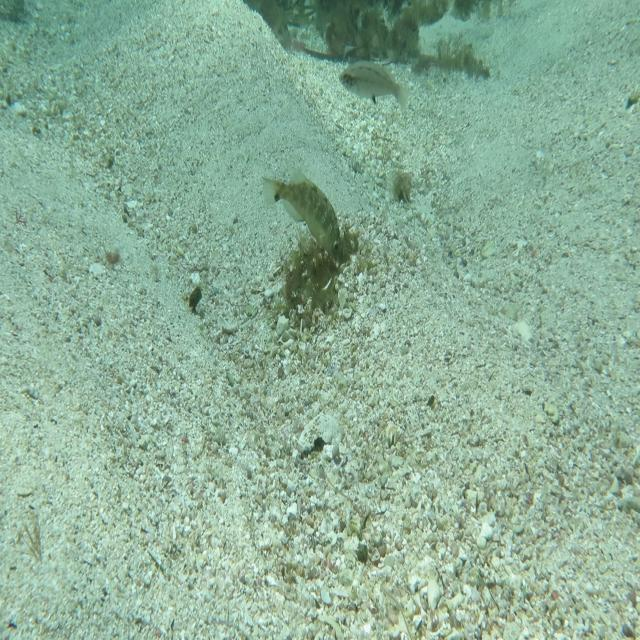NIP_CORE: (256, 165, 344, 266)
female: (337, 57, 412, 116)
nest: (273, 226, 366, 335)
vegetation: (248, 0, 495, 23), (272, 24, 420, 57), (392, 170, 412, 207)
